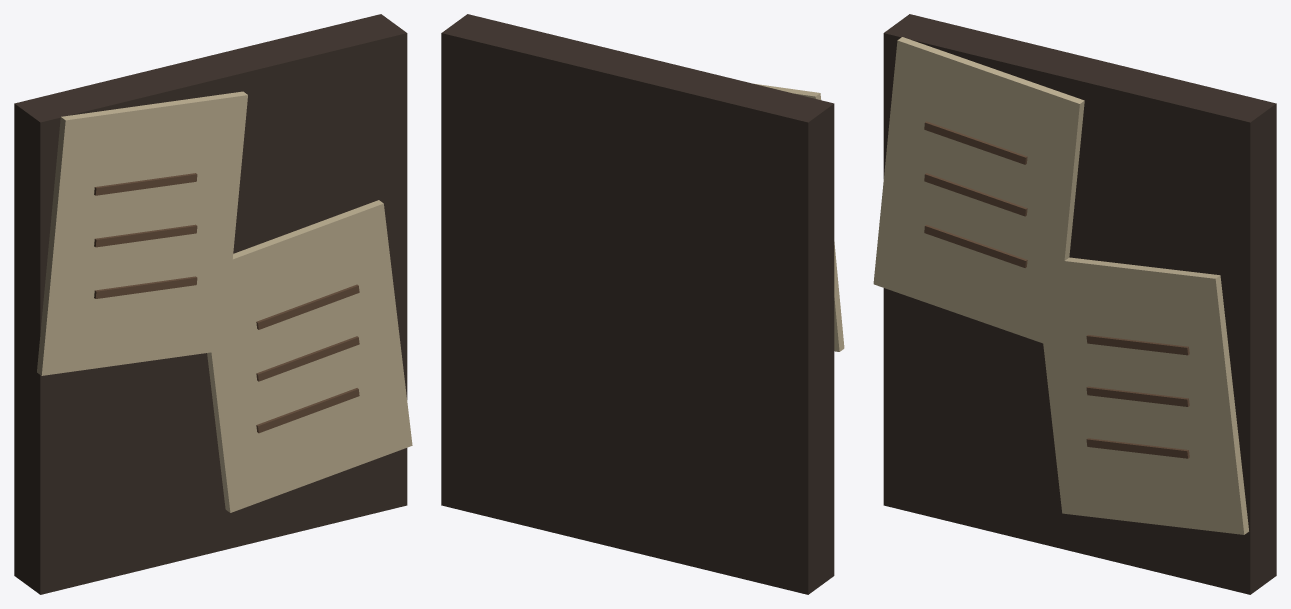
The model's file is notice_board.glb.
3 renders of one model, left to right at view 1: azimuth 30°, elevation 25°; view 2: azimuth 150°, elevation 25°; view 3: azimuth 330°, elevation 25°, orthographic.
Parts seen in each view (by area): view 1: old notice board, torn handbill.001, torn handbill, ink strokes.003, ink strokes.004, ink strokes.005, ink strokes, ink strokes.002, ink strokes.001; view 2: old notice board, torn handbill; view 3: old notice board, torn handbill, torn handbill.001, ink strokes.001, ink strokes, ink strokes.002, ink strokes.003, ink strokes.005, ink strokes.004.
Boxes of the visible parts, x1=… form: old notice board: x1=14, y1=14, x2=407, y2=594; torn handbill.001: x1=202, y1=200, x2=412, y2=512; torn handbill: x1=37, y1=91, x2=247, y2=375; ink strokes.003: x1=256, y1=388, x2=359, y2=433; ink strokes.004: x1=256, y1=336, x2=359, y2=381; ink strokes.005: x1=256, y1=284, x2=359, y2=329; ink strokes: x1=94, y1=276, x2=197, y2=298; ink strokes.002: x1=94, y1=173, x2=197, y2=195; ink strokes.001: x1=94, y1=224, x2=197, y2=247; old notice board: x1=441, y1=14, x2=834, y2=594; torn handbill: x1=754, y1=83, x2=844, y2=351; old notice board: x1=883, y1=14, x2=1276, y2=594; torn handbill: x1=873, y1=37, x2=1084, y2=347; torn handbill.001: x1=1043, y1=257, x2=1248, y2=534; ink strokes.001: x1=924, y1=173, x2=1027, y2=216; ink strokes: x1=924, y1=224, x2=1027, y2=267; ink strokes.002: x1=924, y1=121, x2=1027, y2=164; ink strokes.003: x1=1086, y1=438, x2=1189, y2=458; ink strokes.005: x1=1086, y1=335, x2=1189, y2=355; ink strokes.004: x1=1086, y1=386, x2=1189, y2=406.
Size of the model in its own units: 0.2632 by 0.3211 by 0.041.
